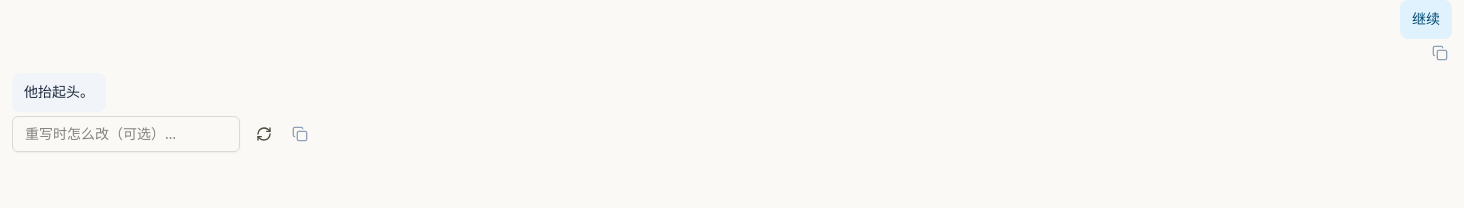
ProseBubble › 输入重写反馈命中已知角色名/设定名时，输入框下方显示识别提示行
This screenshot has width=1464, height=208.
Step 1. Type "让李梅提一下元气的事" into the field with placeholder "重写时怎么改（可选）…" → point(126, 134), box [12,116,240,152]
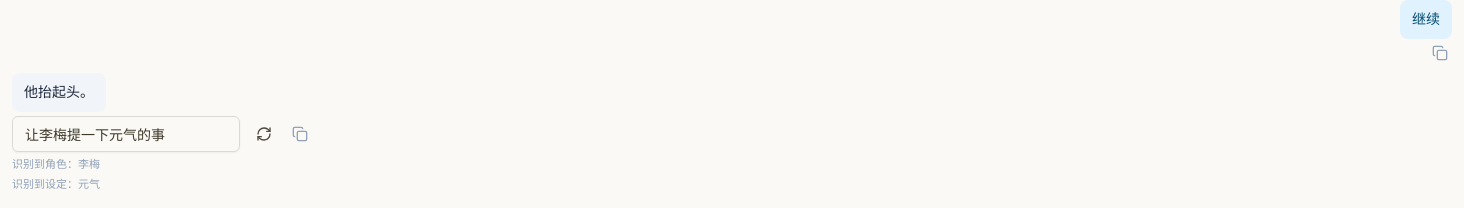
Expected: the text "识别到角色：李梅" is shown, [12,156,100,170]
Expected: the text "识别到设定：元气" is shown, [12,176,100,191]
